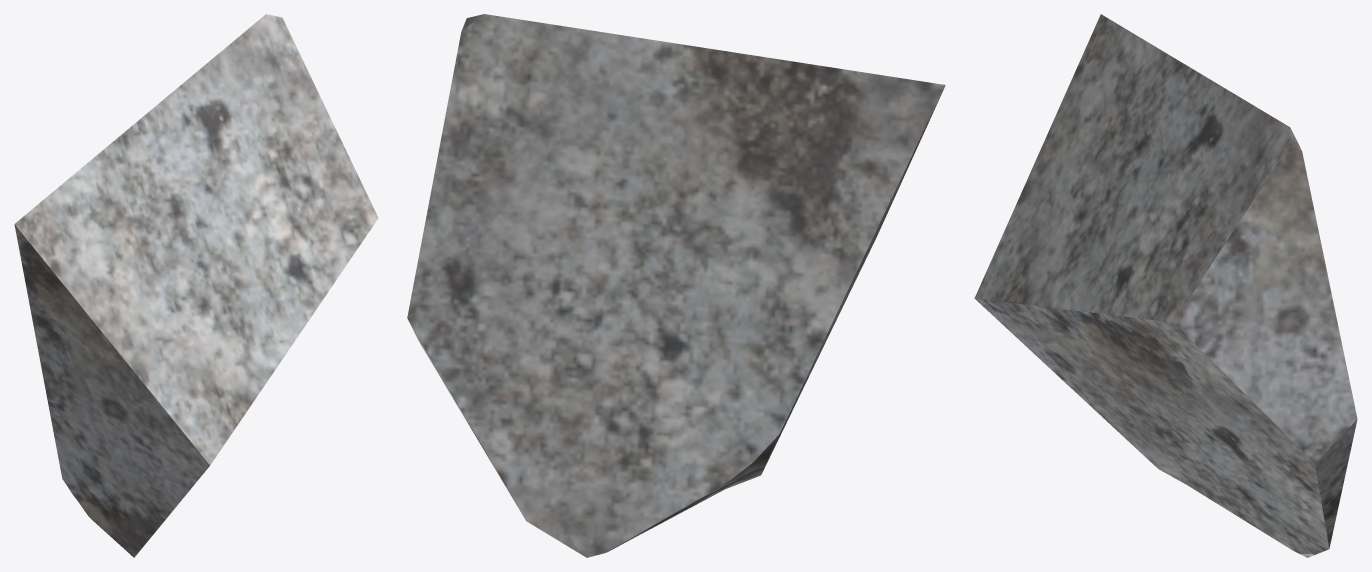
Rendered from Asteroid_Large_001_02_012_03_012.fbx.
3 renders of one model, left to right at view 1: azimuth 30°, elevation 25°; view 2: azimuth 150°, elevation 25°; view 3: azimuth 270°, elevation 25°, orthographic. The views are drawn at different scales.
Parts seen in each view (by area): view 1: Asteroid_Large_001_02_012_03_012; view 2: Asteroid_Large_001_02_012_03_012; view 3: Asteroid_Large_001_02_012_03_012.
Boxes of the visible parts, box(x1,y1,x2,y2) form: Asteroid_Large_001_02_012_03_012: box(14, 14, 378, 557); Asteroid_Large_001_02_012_03_012: box(407, 14, 945, 557); Asteroid_Large_001_02_012_03_012: box(974, 14, 1357, 557).
Bounding box in the file's own units: 6.28 × 7.36 × 5.3.
